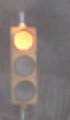Red: (4, 17, 42, 111)
